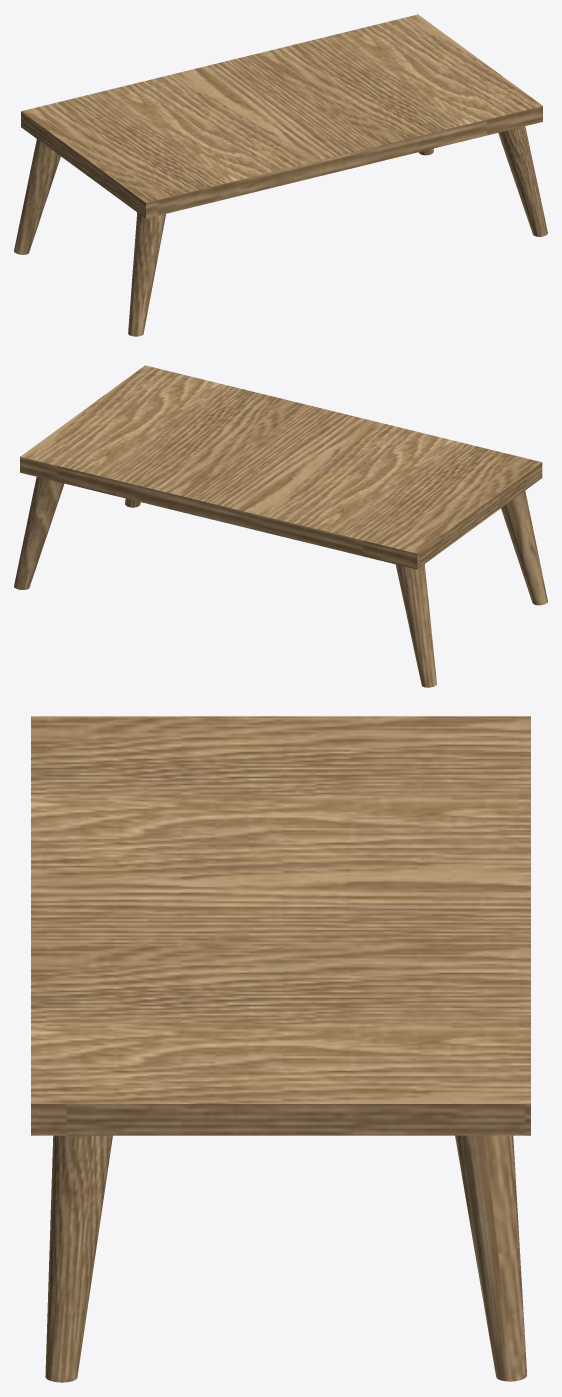
The model's file is coffe_table.glb.
3 views of the same model, one above another, from view 1: azimuth 30°, elevation 25°; view 2: azimuth 150°, elevation 25°; view 3: azimuth 270°, elevation 25° (orthographic). The views are drawn at different scales.
Visible parts, largest first — view 1: BaseMesa, perna2, Perna3, Perna1; view 2: BaseMesa, Perna1, Perna4, perna2; view 3: BaseMesa, Perna3, Perna4.
Boxes of the visible parts, x1,y1,x2,y2 form: BaseMesa: (21,14,542,218); perna2: (128,212,165,336); Perna3: (498,126,547,236); Perna1: (14,139,60,254); BaseMesa: (20,365,542,569); Perna1: (395,564,436,687); Perna4: (14,477,64,589); perna2: (501,491,547,605); BaseMesa: (31,716,530,1135); Perna3: (45,1135,112,1382); Perna4: (455,1135,526,1381).
Bounding box in the file's own units: 1.17 × 0.357 × 0.6.
1 material, 1 textured.
